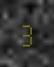three: (19, 20, 33, 46)
